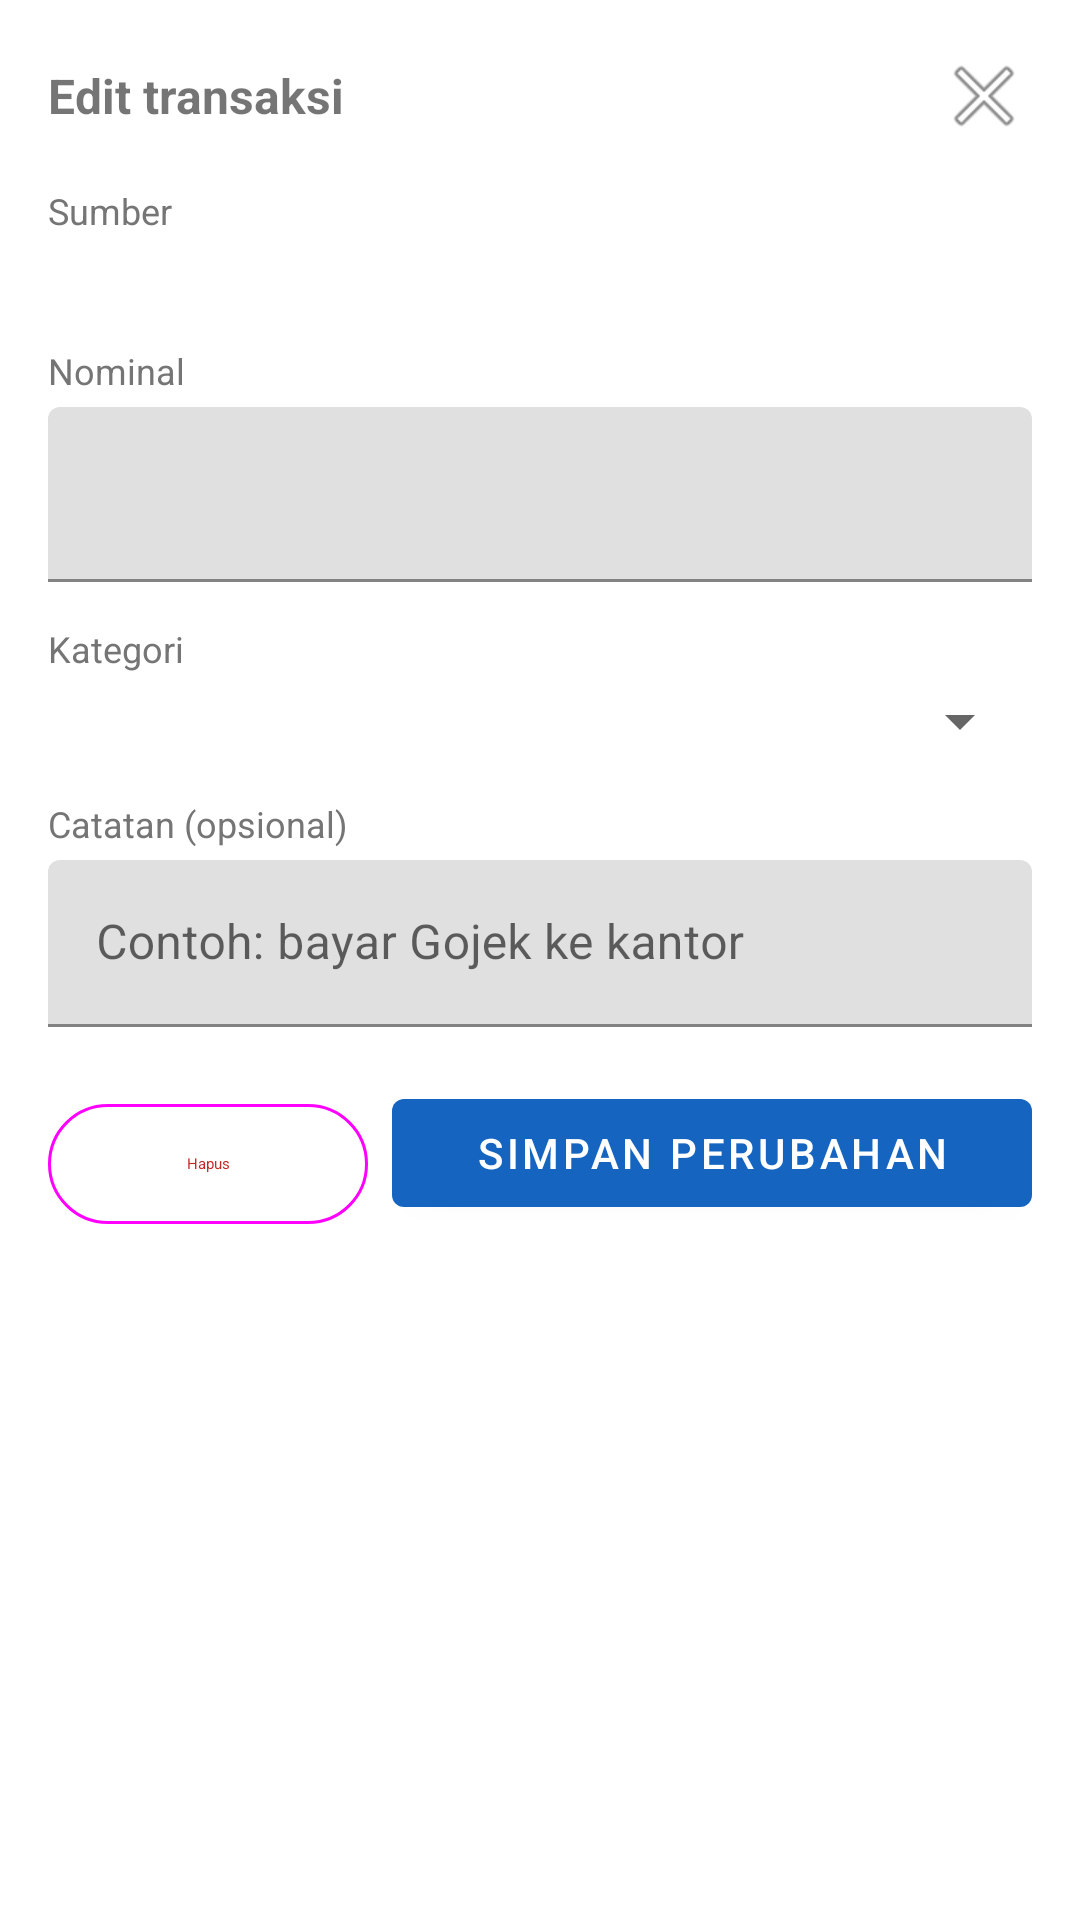

Screen size 1080x1920. Icon name, then its center in pixels as (x,y):
Tutup: (984,96)
